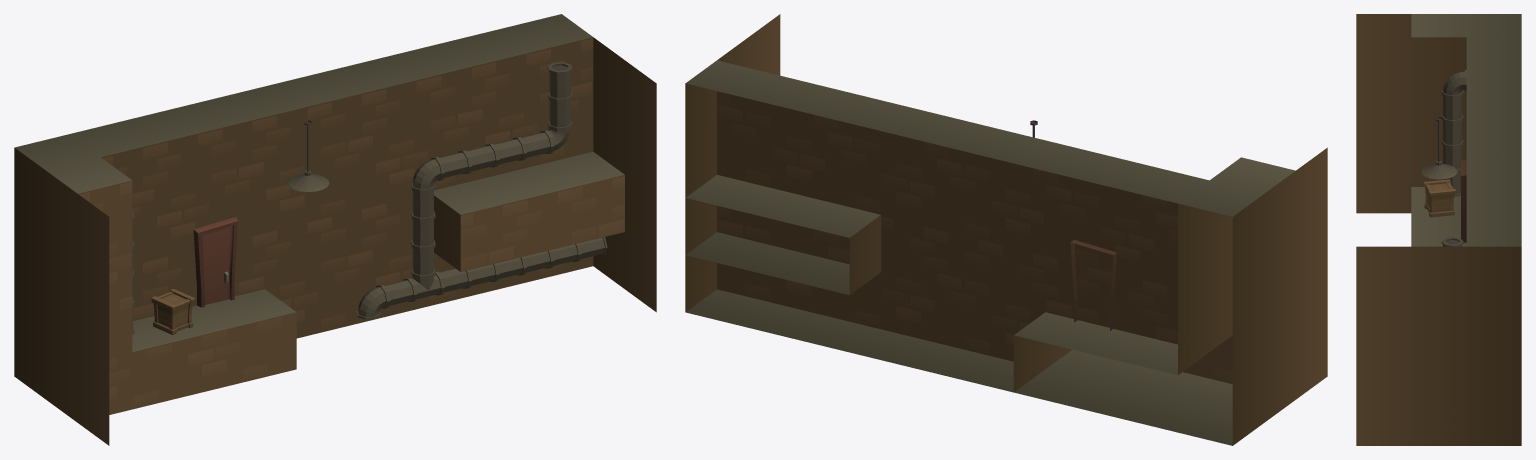
The model's file is Room26_8x20.fbx.
The picture shows the model from 3 angles, left to right: view 1: azimuth 30°, elevation 25°; view 2: azimuth 150°, elevation 25°; view 3: azimuth 270°, elevation 25°; orthographic projection. The views are drawn at different scales.
Parts seen in each view (by area): view 1: Room26_8x20; view 2: Room26_8x20; view 3: Room26_8x20.
Boxes of the visible parts, left/top/right/bottom form: Room26_8x20: left=14, top=14, right=656, bottom=445; Room26_8x20: left=685, top=14, right=1327, bottom=445; Room26_8x20: left=1356, top=14, right=1521, bottom=445.
Bounding box in the file's own units: 2000 × 600 × 800.
